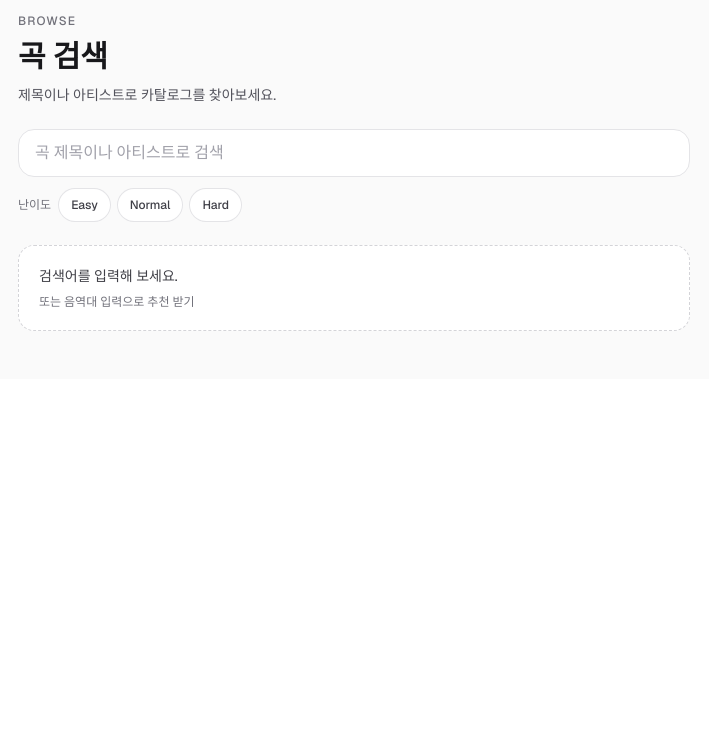
Test: SongSearchPage › '필터 초기화' 버튼을 누르면 모든 필터가 해제되고 전체 결과가 복귀한다 (#118)
The width and height of the screenshot is (709, 739).
In the search field with placeholder "곡 제목이나 아티스트로 검색": point(354, 153) [18,129,690,177], type "song"
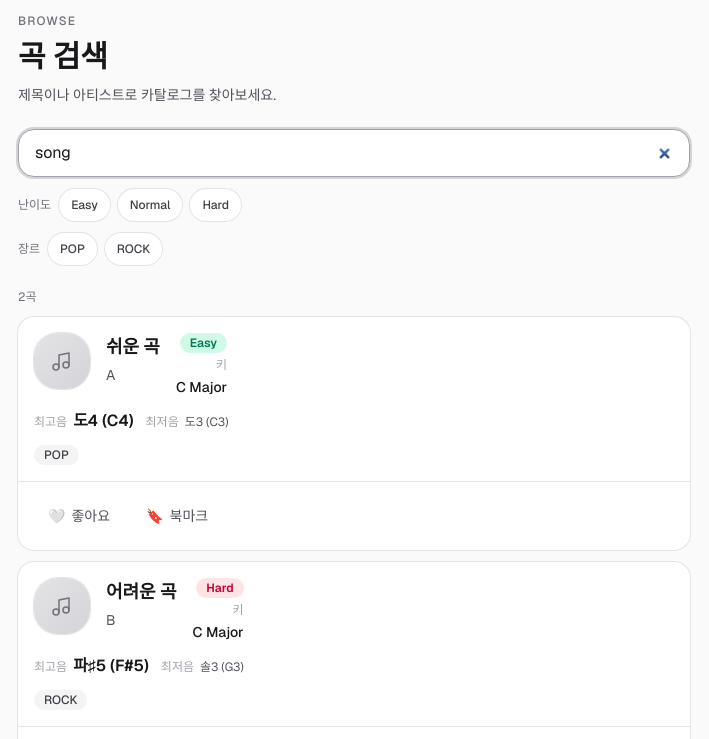
Check: the heading "쉬운 곡" is shown, box [106,333,160,361]
Click the button "Easy": point(84, 205) [59,189,110,221]
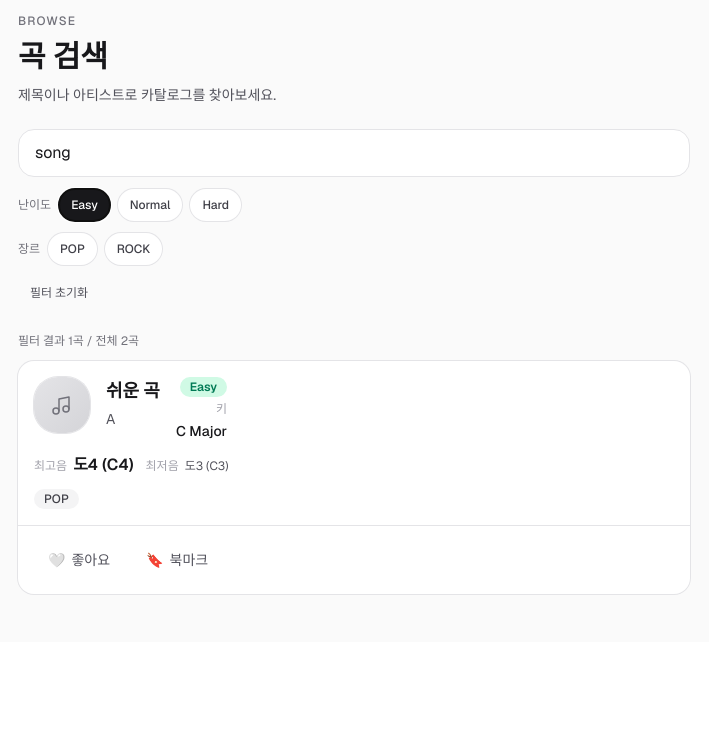
Check: the button "어려운 곡" is gone
// 초기화 버튼은 활성 필터가 있을 때만 노출됨.
Click the button "필터 초기화": point(59, 293) [18,277,100,309]
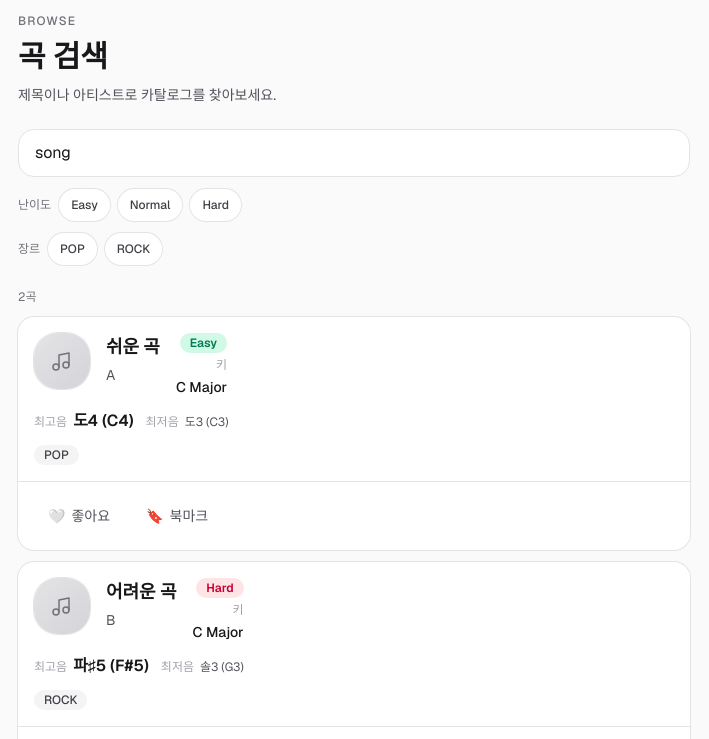
Check: the heading "쉬운 곡" is shown, box [106,333,160,361]
Check: the heading "어려운 곡" is shown, box [106,578,176,606]
Check: the button "필터 초기화" is gone
